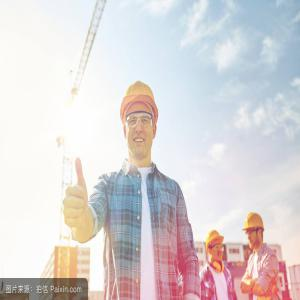yellow: (120, 81, 161, 162), (246, 212, 266, 254), (206, 231, 225, 266)
